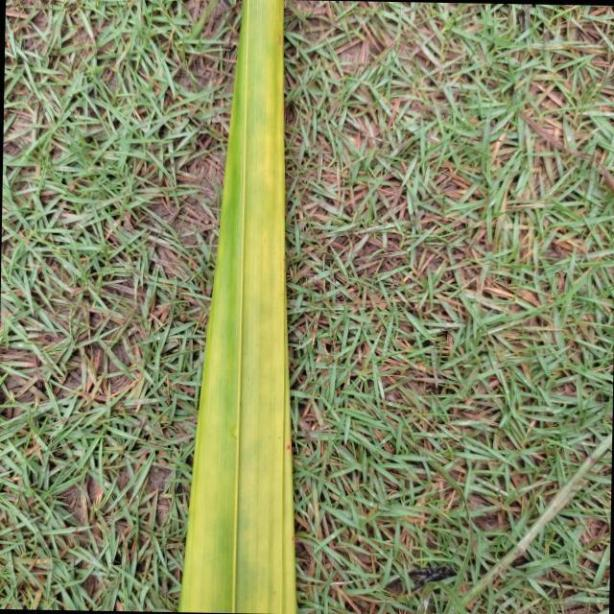nitrogen: (173, 3, 300, 614)
